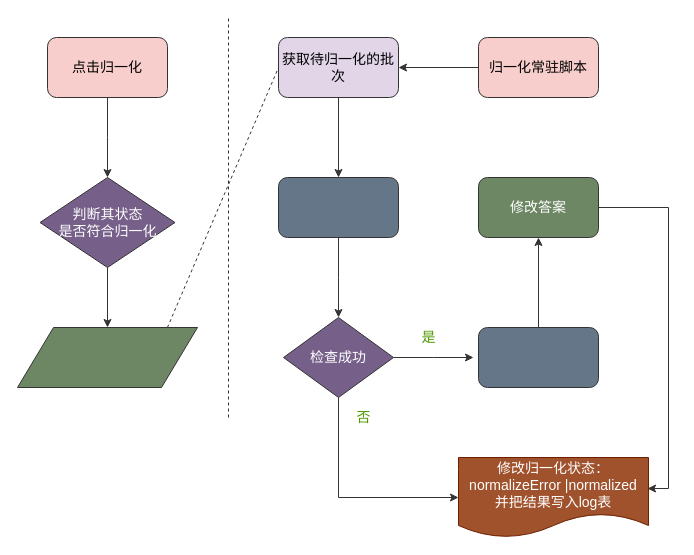
Some shapes in this 694 by 555 pixel diagram are drawn without their labels. Here are the shapes that lost their labels. From the top down, the centre of each, then its label:
point (338, 207): 进行归一化检查
point (107, 357): 把归一化状态 改为待归一化 waitingForNormalize
point (538, 357): 进行归一化
